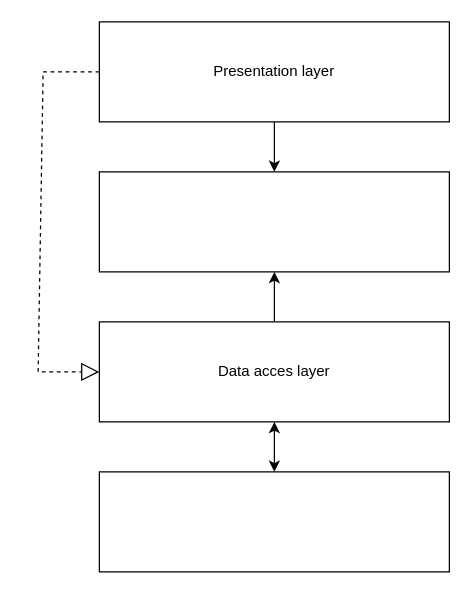
Some shapes in this 471 by 594 pixel diagram are drawn without their labels. The shapes that lost their labels are listed below. From the top down, each one's box as (x1, y1, x2, y2) in pixels, then its label:
(98, 171, 449, 272): Buisness logic layer
(98, 471, 449, 572): Data base
